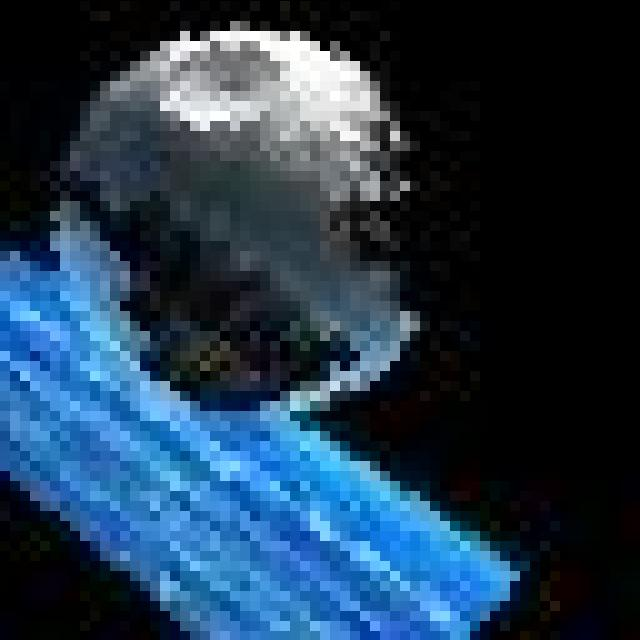Death Star: (50, 28, 431, 409)
